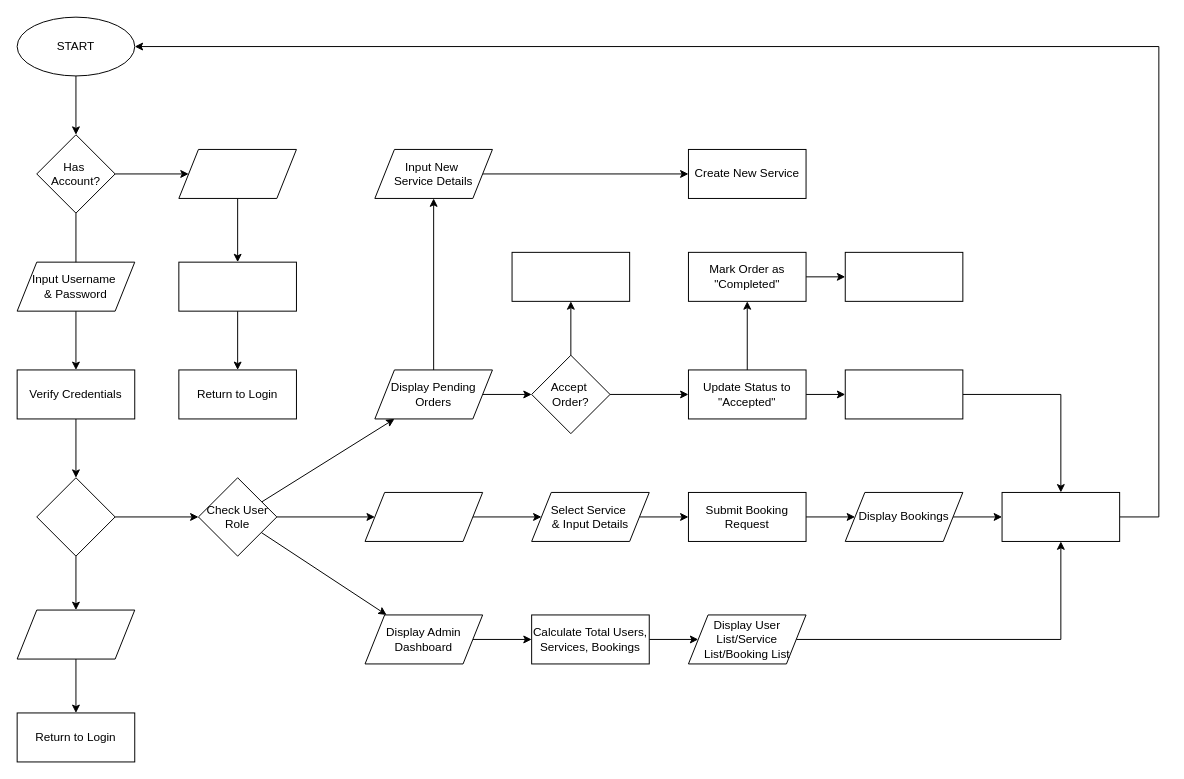
The diagram is 1184 pixels wide and 779 high, and some of its shapes have lost their labels. The centre of each missing label's shape, as x and y in pixels:
Create Account: (237,286)
Credentials Valid?: (75,516)
Display Accepted Orders: (903,394)
Display Error Message: (75,634)
Display Services: (423,516)
Input Sign Up Details: (237,173)
Logout: (1060,516)
Update Status to "Cancelled": (570,276)
Update Status to "Completed": (903,276)
